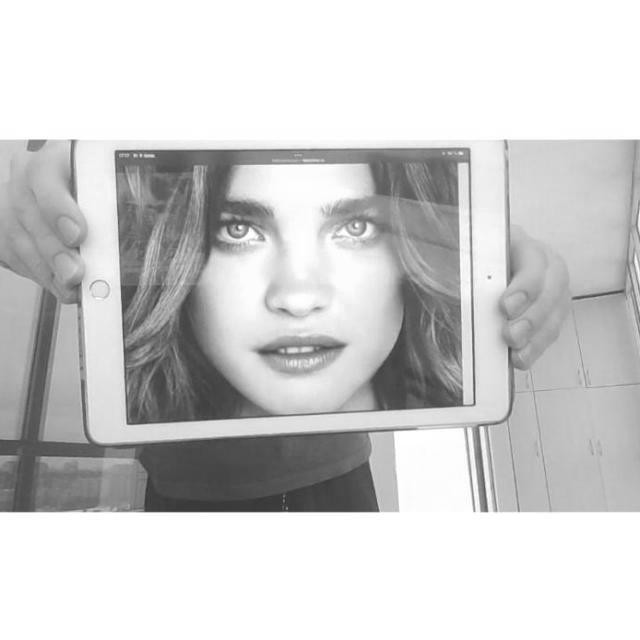fake: (67, 139, 523, 452)
